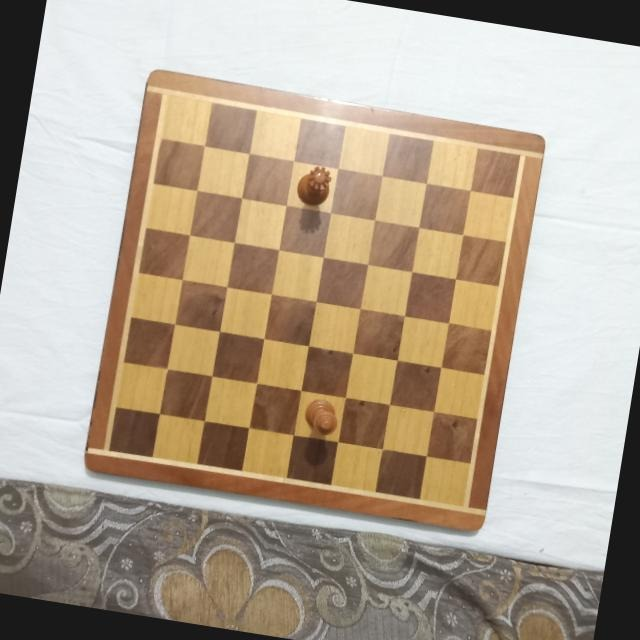white-king: (301, 398, 342, 438)
white-queen: (295, 161, 337, 210)
